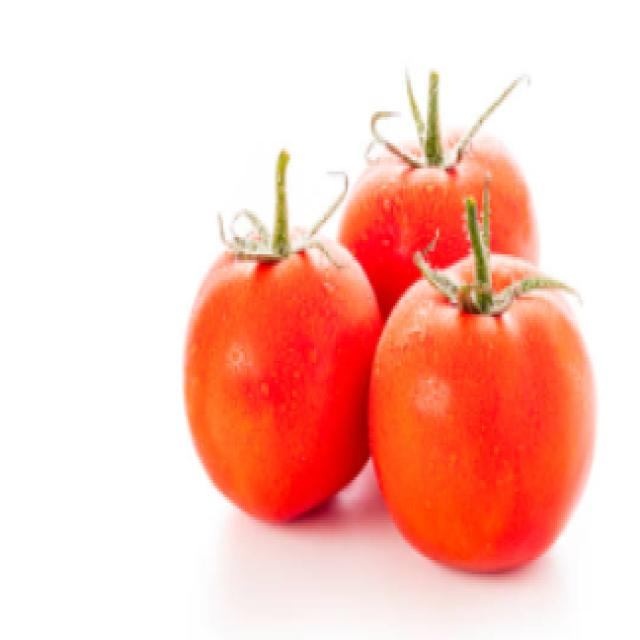Tomato: (346, 217, 605, 566), (187, 174, 380, 530), (324, 102, 535, 290)
